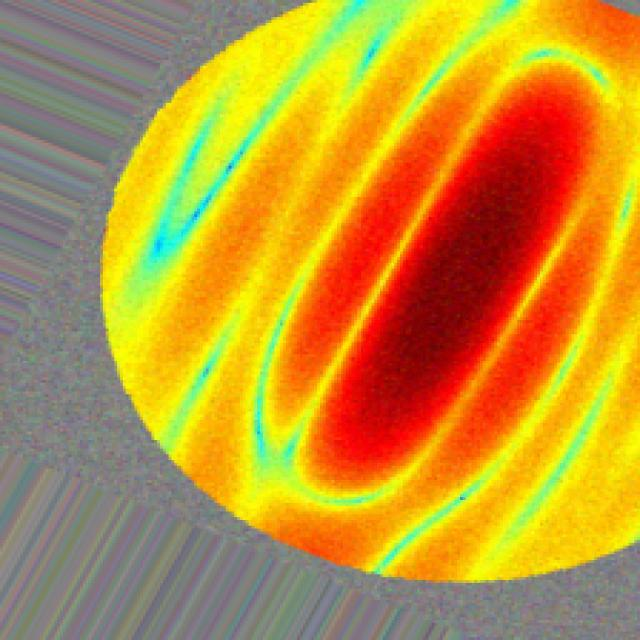Spiral_bacteria: (94, 0, 637, 586)
